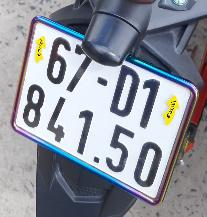0: (129, 137, 166, 193)
1: (131, 74, 163, 133), (69, 104, 96, 158)
4: (44, 91, 74, 146)
5: (102, 120, 137, 178)
6: (43, 34, 75, 91)
7: (63, 42, 99, 99)
8: (20, 80, 47, 133)
D: (106, 63, 144, 123)
